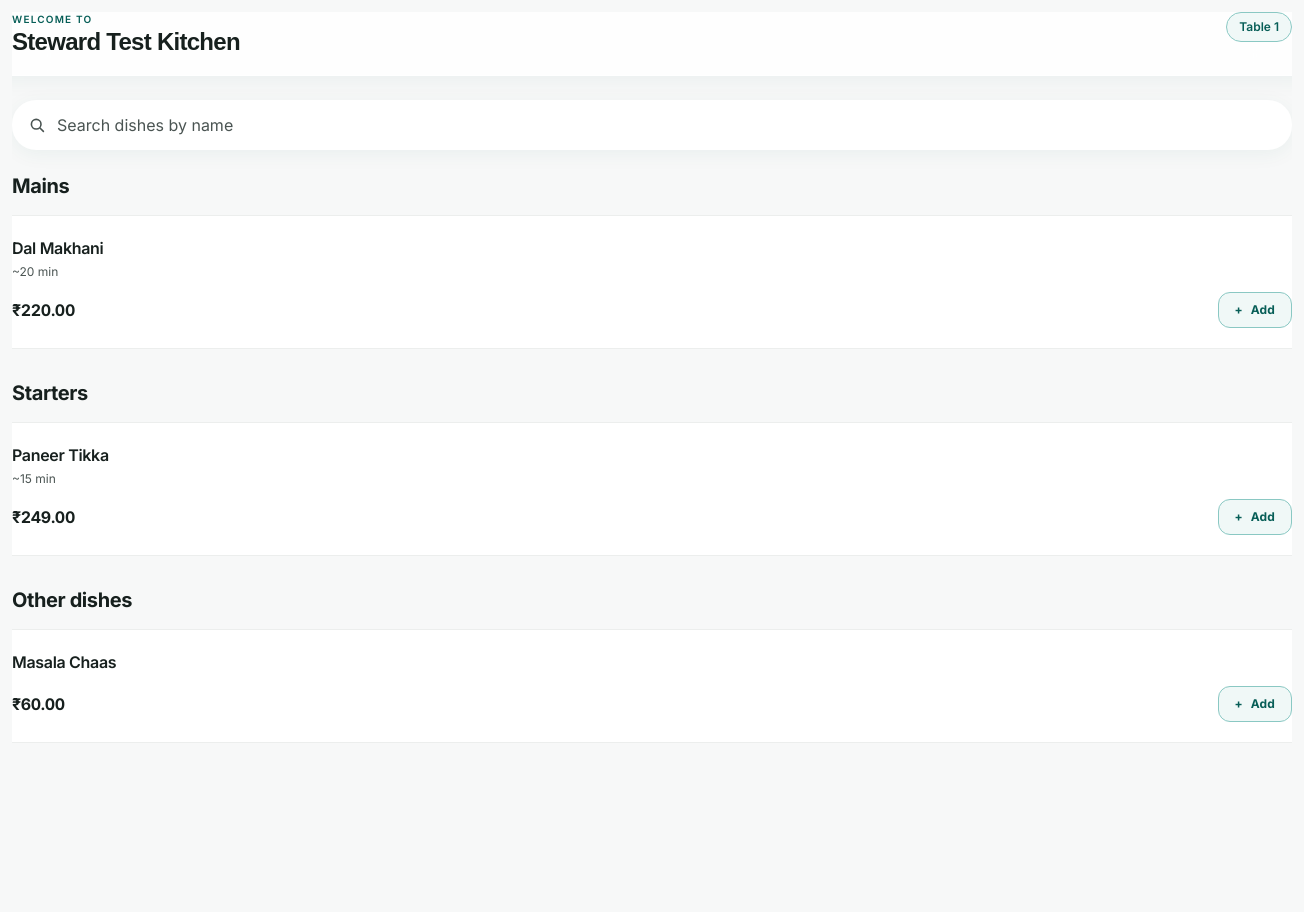
Test case: the cart on the menu › explains the per-dish limit
What coordinates should you click on to do the following:
click the button with aria-label "Add Dal Makhani"
I would click on:
 (1255, 310)
Its box is [1218,292,1292,328].
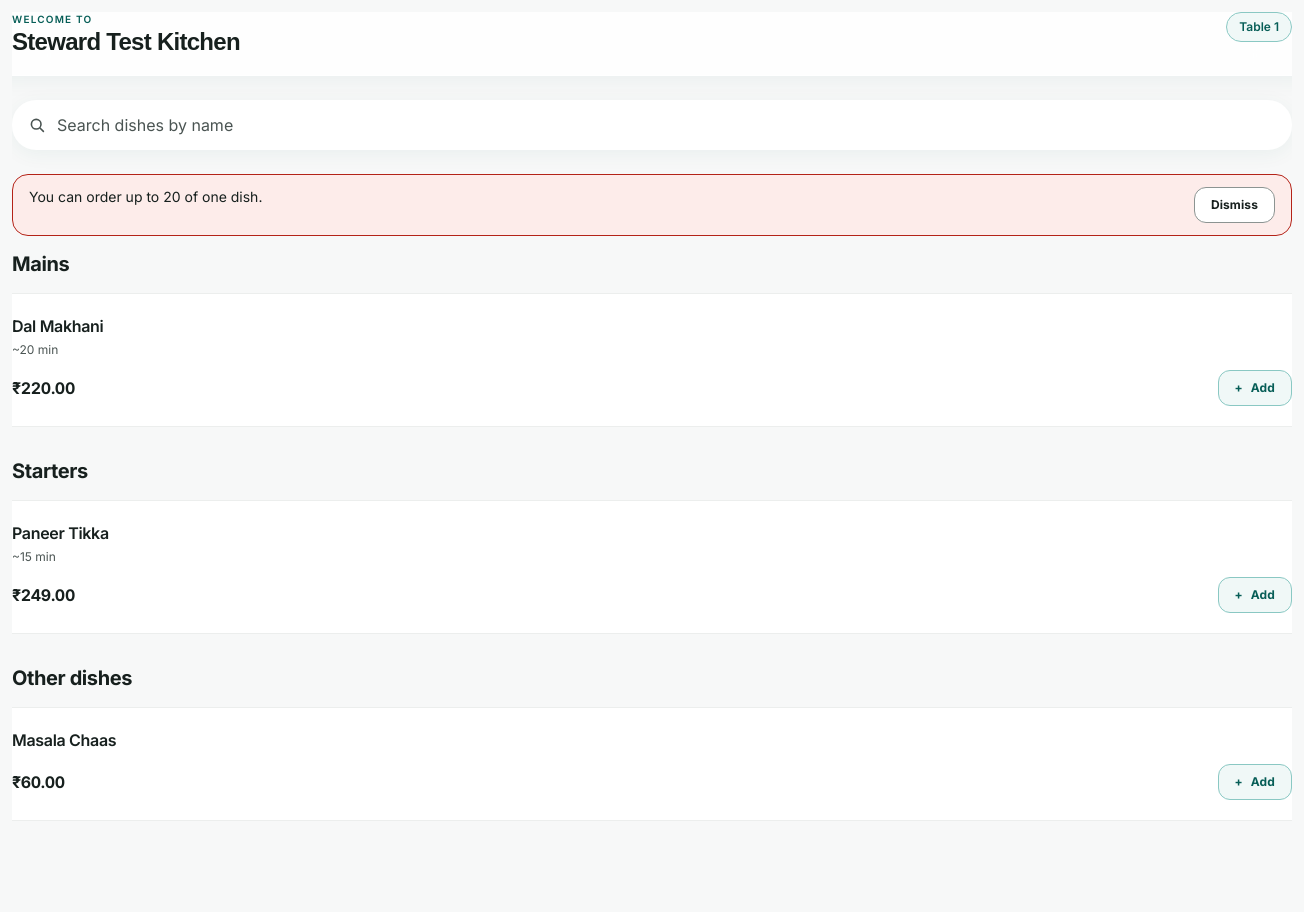
Result: the message shows "You can order up to 20 of one dish." at [29,188,262,205]
